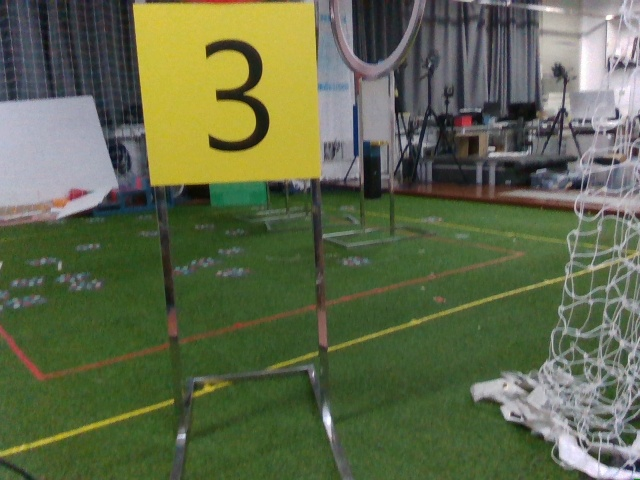target: (139, 8, 316, 174)
